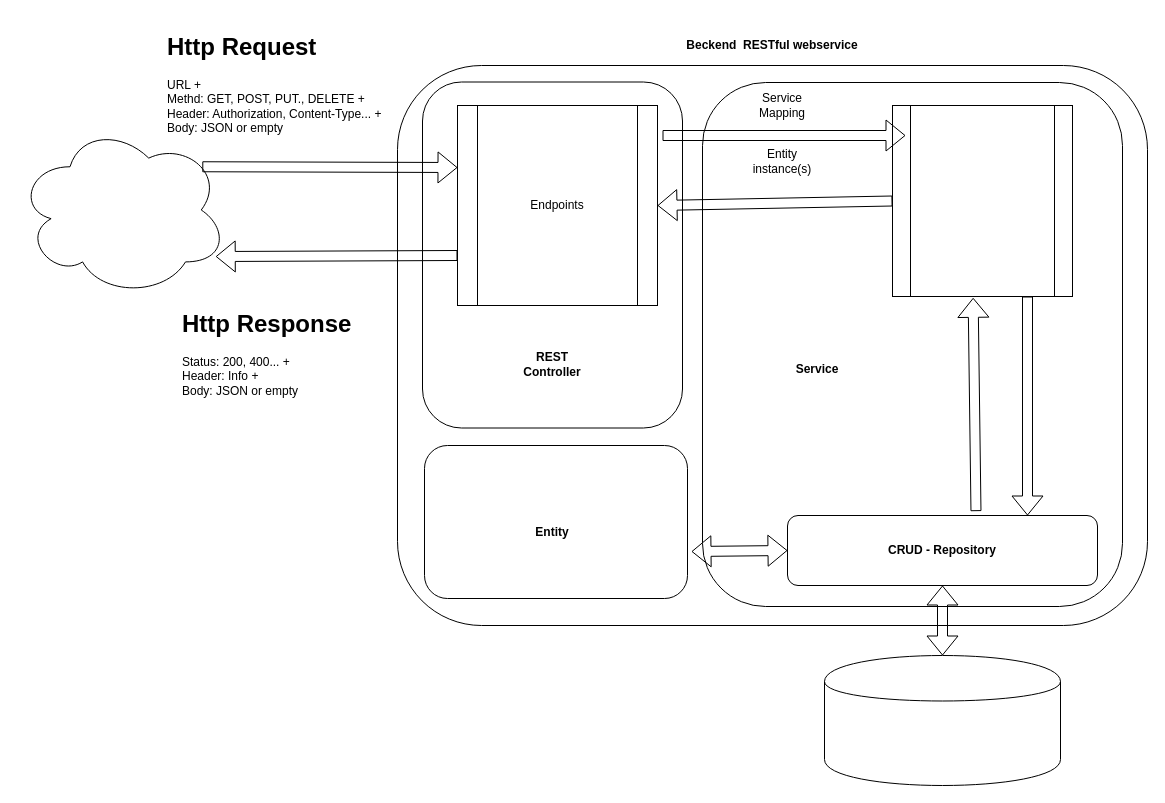
This 1165x803 diagram has some shape labels left out. Here are the shapes that lost their labels. From the top down, the centre of each, then its label:
At pixel 122 209: "Internet or other Network".
At pixel 942 720: "Database".
